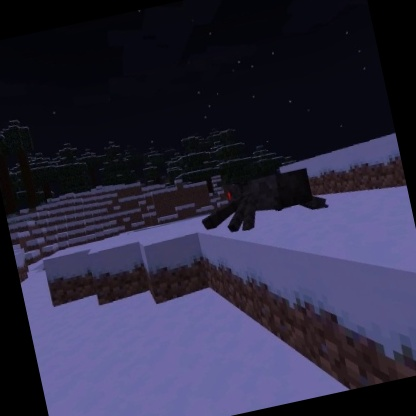spider: (191, 160, 332, 244)
